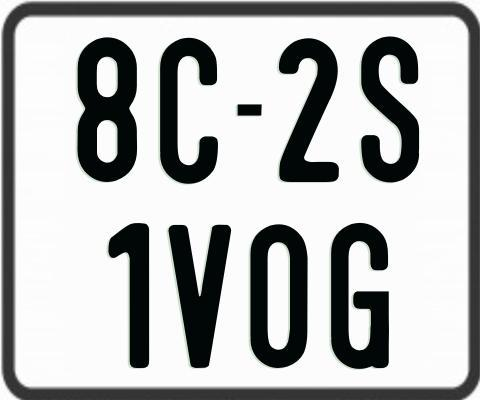0: (247, 224, 306, 369)
1: (106, 222, 149, 372)
2: (276, 35, 340, 182)
8: (77, 37, 139, 182)
C: (157, 38, 221, 184)
G: (330, 221, 388, 367)
S: (359, 35, 420, 188)
V: (165, 223, 229, 371)
